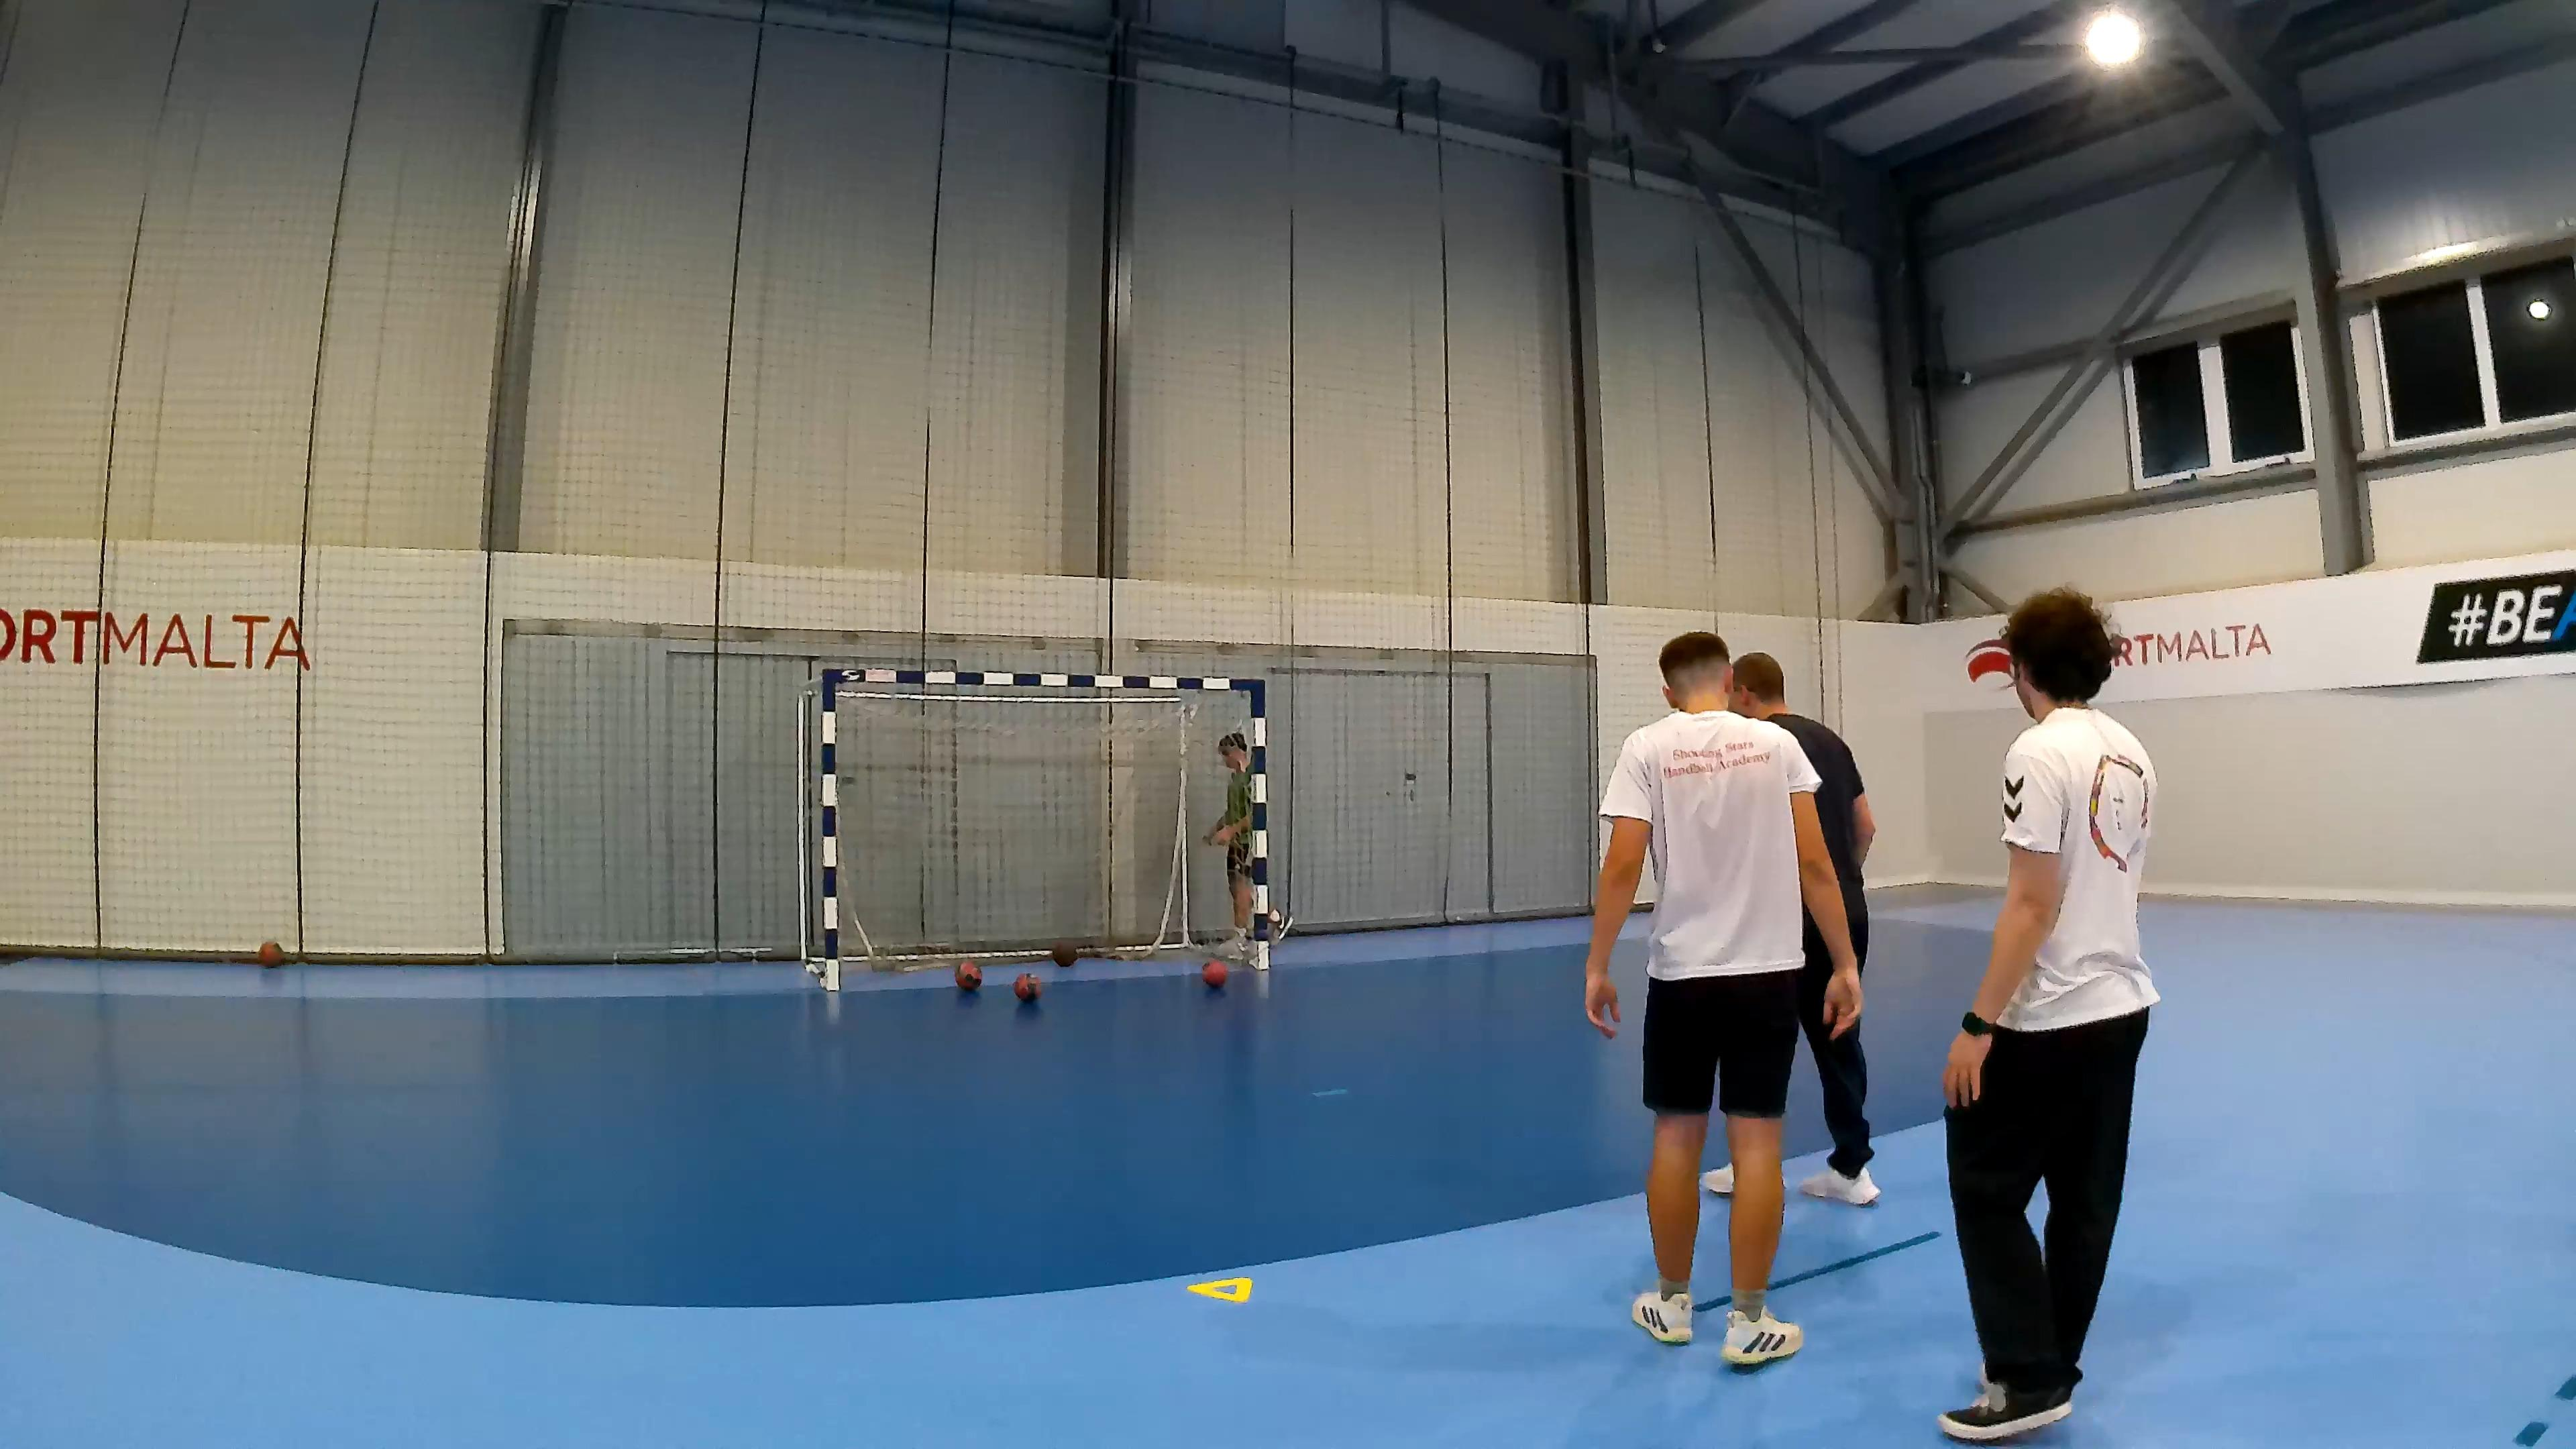handball: (1012, 970, 1040, 1001), (954, 959, 982, 989), (1049, 941, 1079, 966), (1201, 957, 1226, 985)
